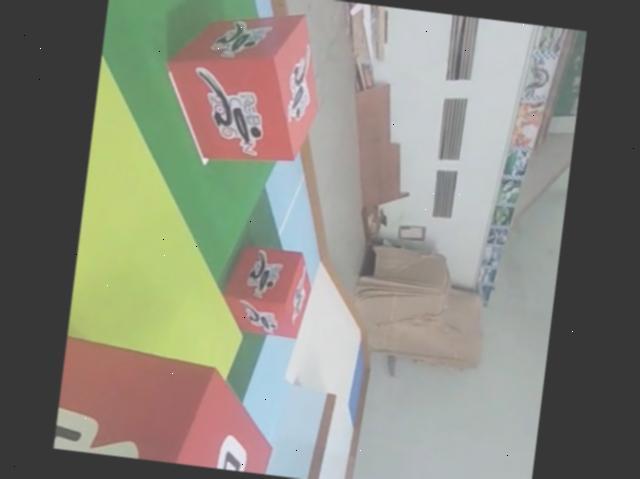R1: (155, 0, 332, 172), (214, 238, 319, 344)
R2 Real: (53, 335, 290, 476)
